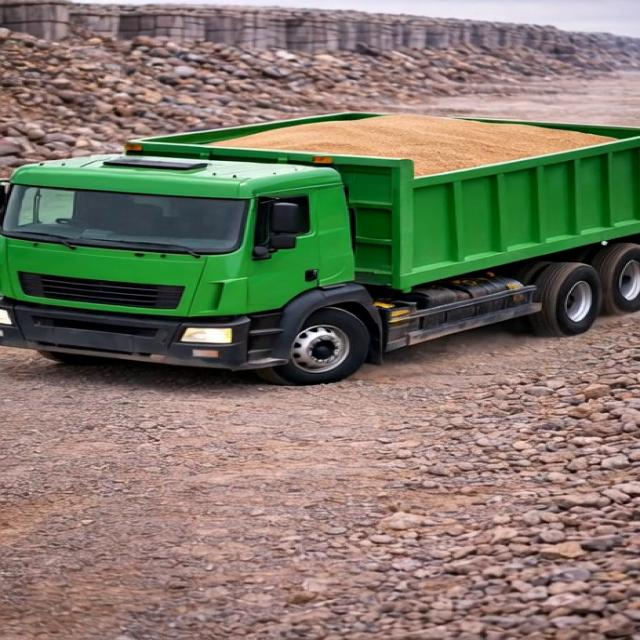trailer: (133, 109, 638, 177)
truck: (0, 102, 640, 386)
